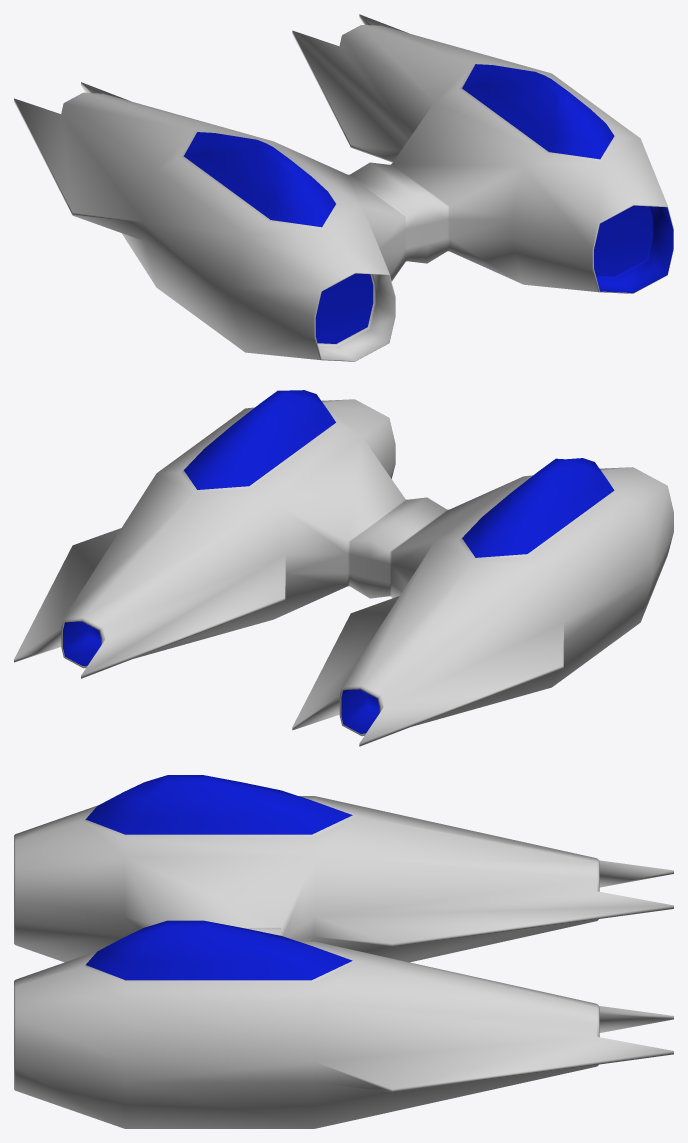
File: Baddy1.fbx
The picture shows the model from 3 angles, top to bottom: view 1: azimuth 30°, elevation 25°; view 2: azimuth 150°, elevation 25°; view 3: azimuth 270°, elevation 25°; orthographic projection. The views are drawn at different scales.
Visible parts, largest first — view 1: Cube; view 2: Cube; view 3: Cube.
Part boxes in pixels (left/top/right/bottom): Cube: left=14, top=14, right=673, bottom=361; Cube: left=14, top=390, right=673, bottom=746; Cube: left=14, top=775, right=673, bottom=1128.
Size of the model in its own units: 421 by 147 by 457.
